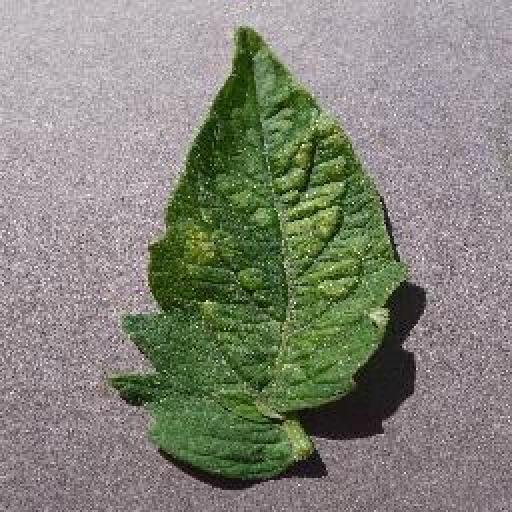disease_tomato: (106, 24, 412, 483)
